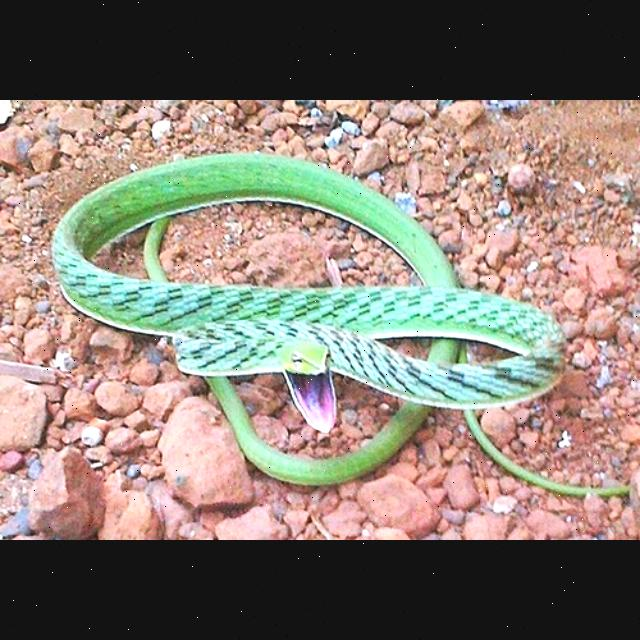snake: (48, 144, 566, 492)
